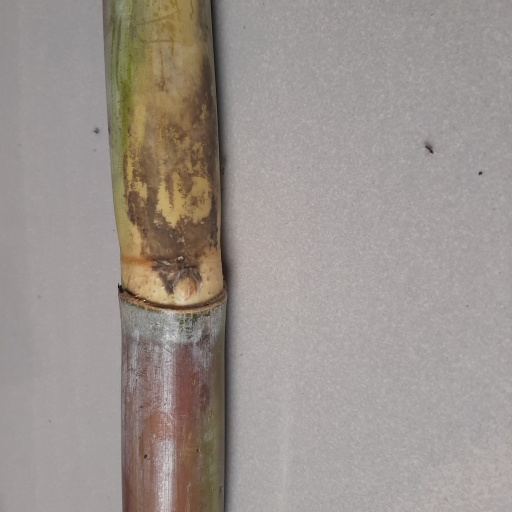Bud: (174, 273, 198, 303)
